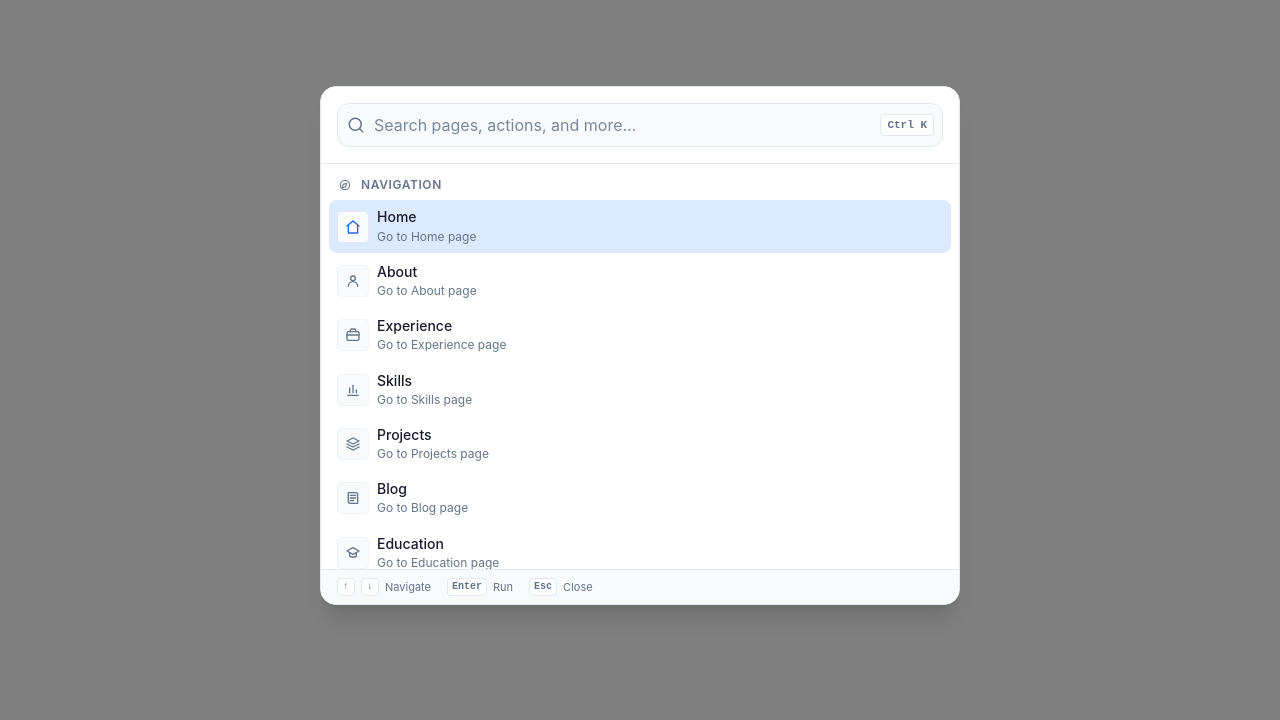
Test: CommandPalette › filters commands and shows empty state
The width and height of the screenshot is (1280, 720).
Type "zzzz-no-match" into the search field named "search commands". click: (623, 125)
box: [374,104,872,146]
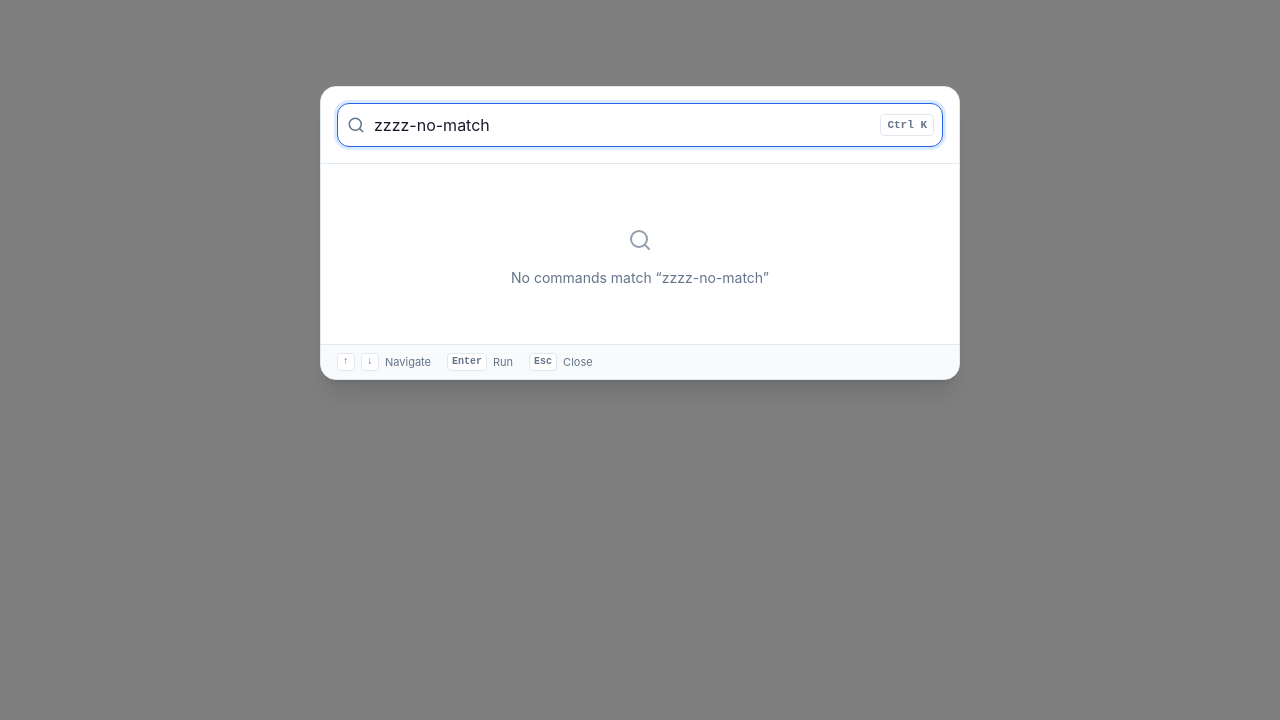
Now the text "No commands match “zzzz-no-match”" is shown, box [511,268,769,288]
